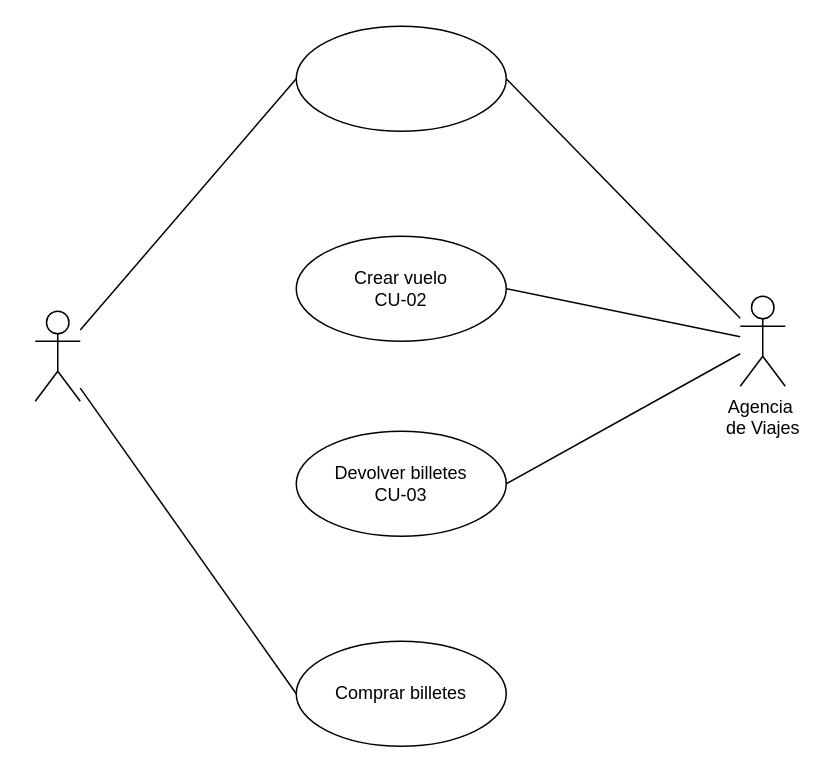
The diagram is 825 pixels wide and 773 high, and some of its shapes have lost their labels. Each missing label, with the centre of its shape:
Clientes: the point at 57,355
Iniciar sesión CU-01: the point at 400,78
